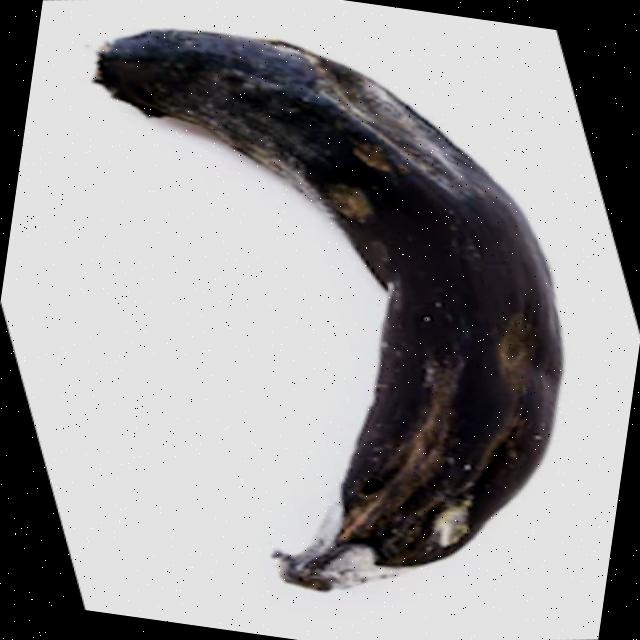Rotten: (28, 15, 604, 621)
